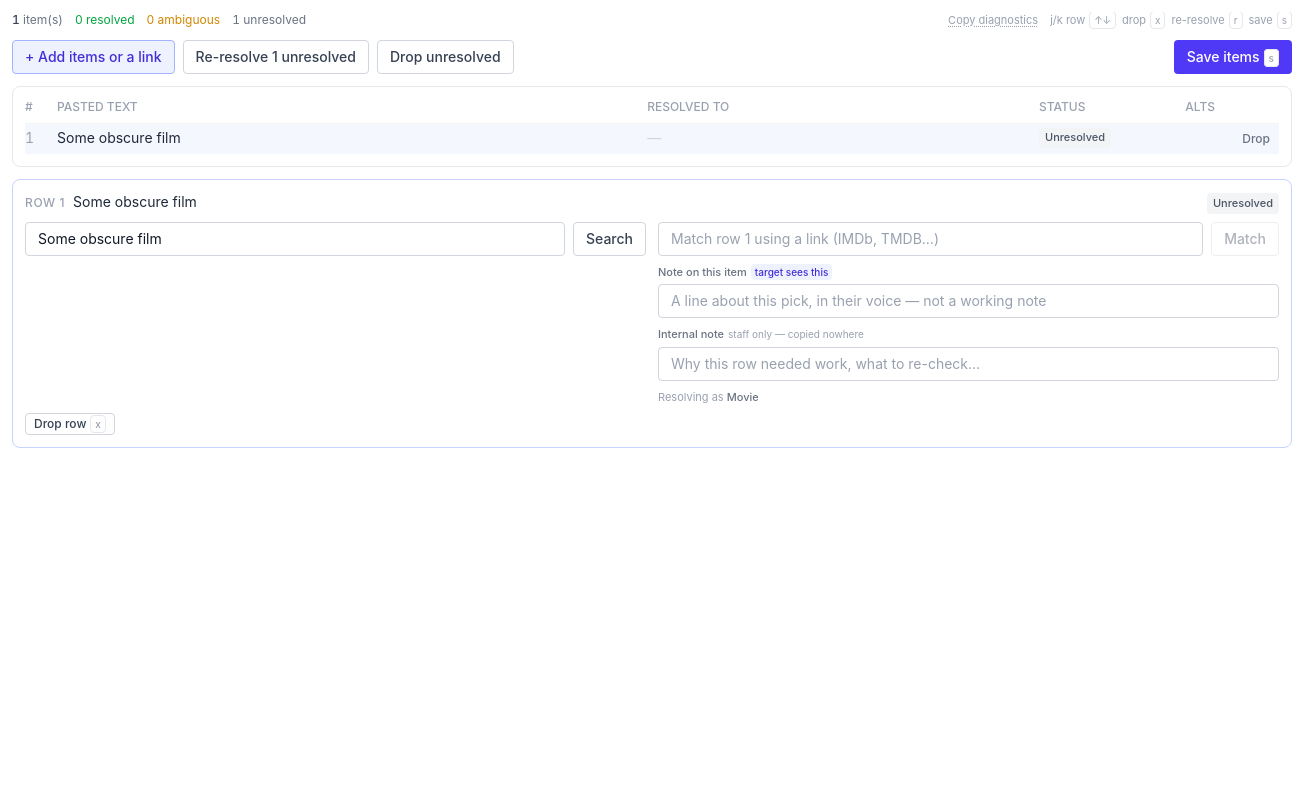
Scenario: builder — adding a thing we do not hold yet › on a 404 says what it read, then runs the search itself
The image size is (1304, 812).
Step 1. Type "https://www.imdb.com/title/tt0060827/?ref_=fn_t_2" into the field with placeholder "Match row 1 using a link (IMDb, TMDB…)" → [931, 238], box x1=658 y1=222 x2=1203 y2=256
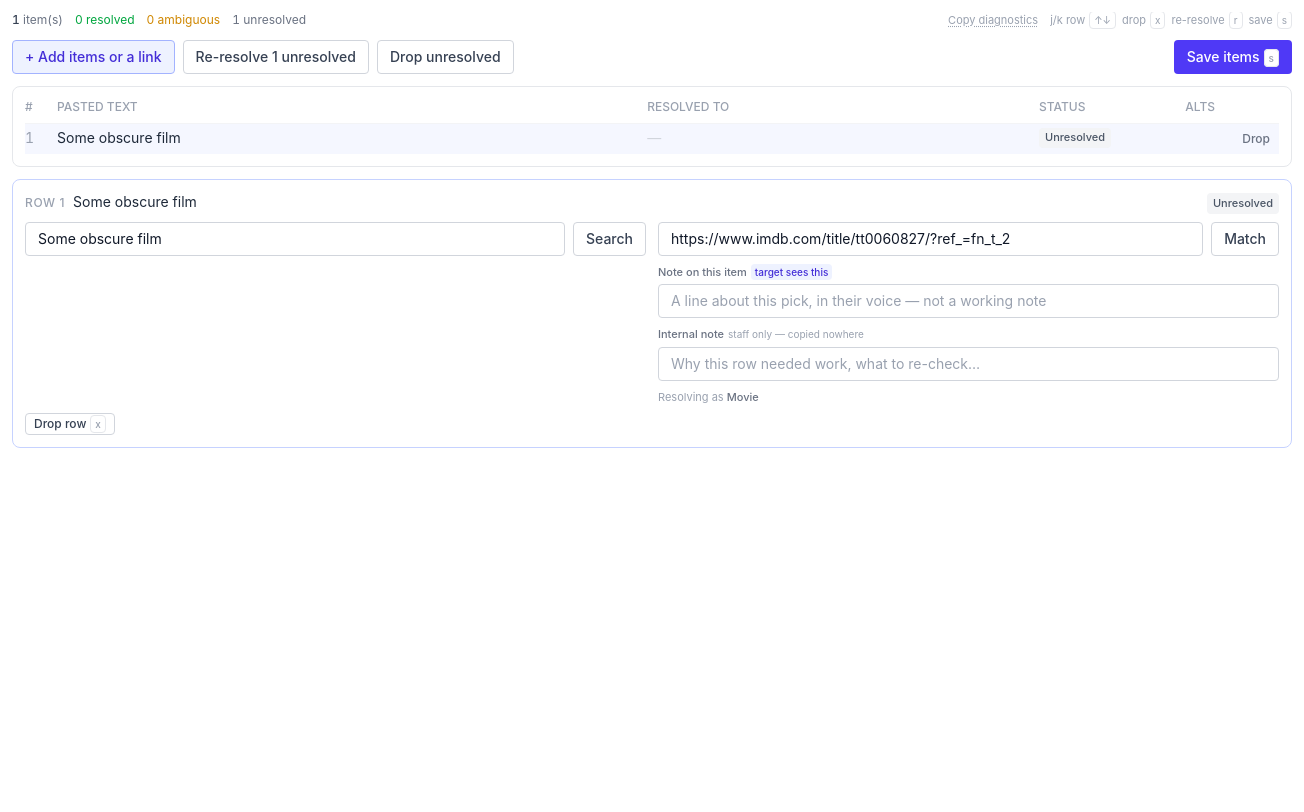
Step 2. Click the button "Match" → [1245, 238], box x1=1211 y1=222 x2=1279 y2=256
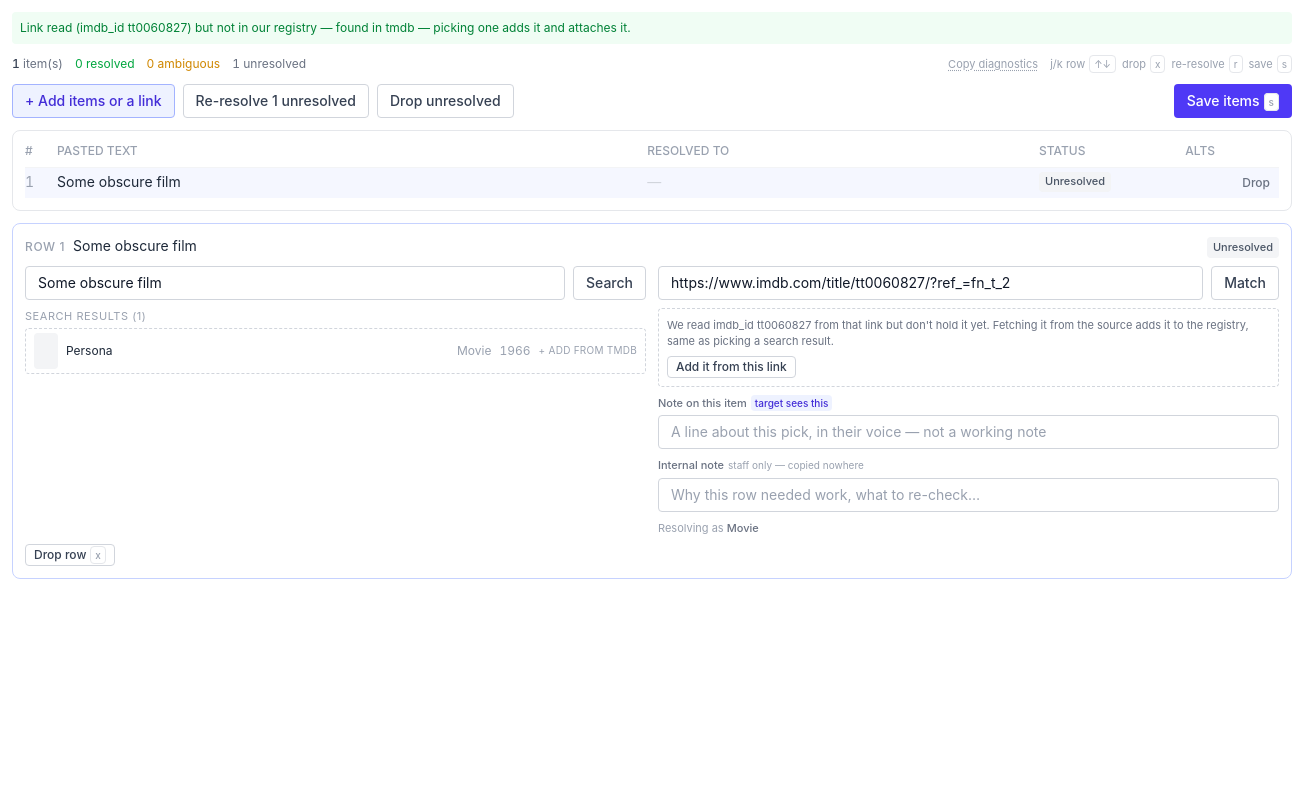
Check: the text "Link read (imdb_id tt0060827) but not in our registry" is shown, box x1=20 y1=20 x2=631 y2=35
Check: the button titled "Not in the registry yet" is shown, box x1=25 y1=328 x2=646 y2=374
